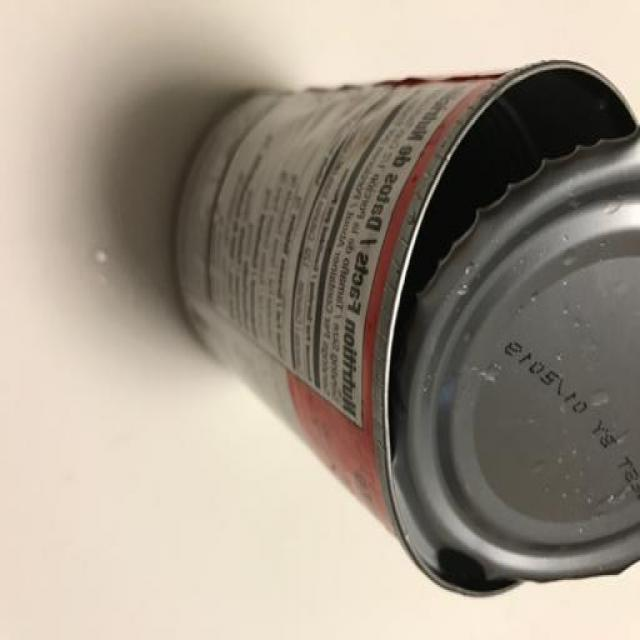metal: (167, 48, 640, 606)
